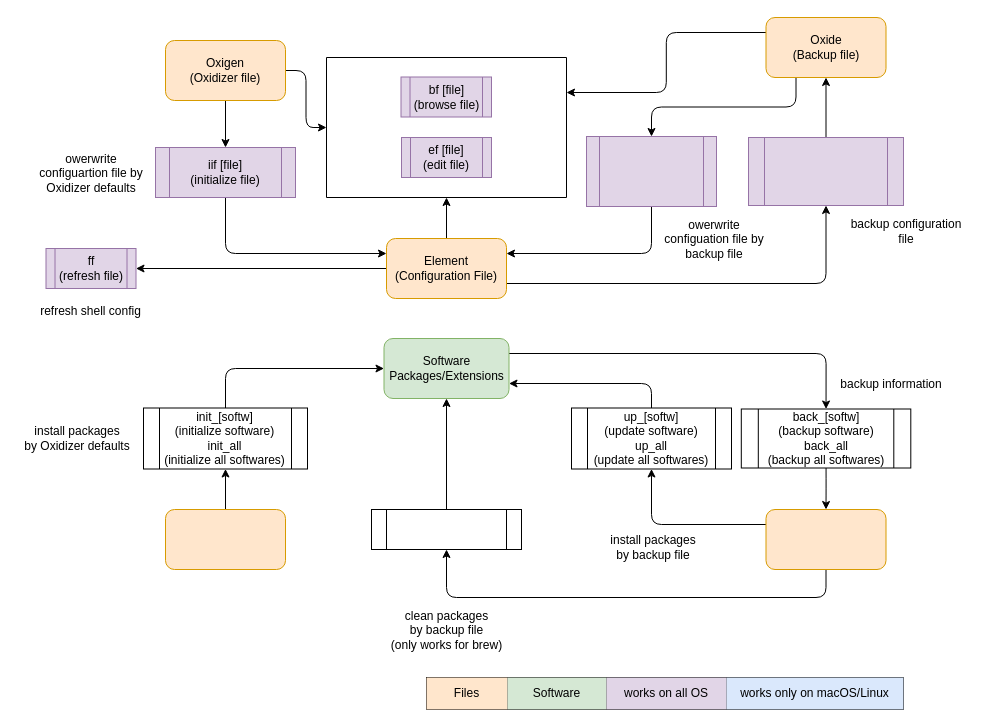
The diagram is 984 pixels wide and 727 high, and some of its shapes have lost their labels. Each missing label, with the centre of its shape:
"Backup file" goes at (x=825, y=539).
"clean_[softw] (clean software)" goes at (x=446, y=529).
"epf [file] (export file) epall (export all files)" goes at (x=826, y=171).
"ipf [file] (import file) ipall (import all files)" goes at (x=651, y=171).
"Oxidizer defaults (in oxidizer folder)" goes at (x=225, y=539).
